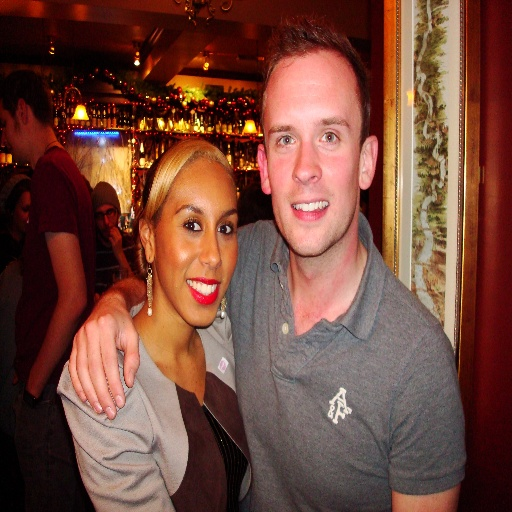hand: (66, 291, 139, 427), (107, 225, 123, 256)
